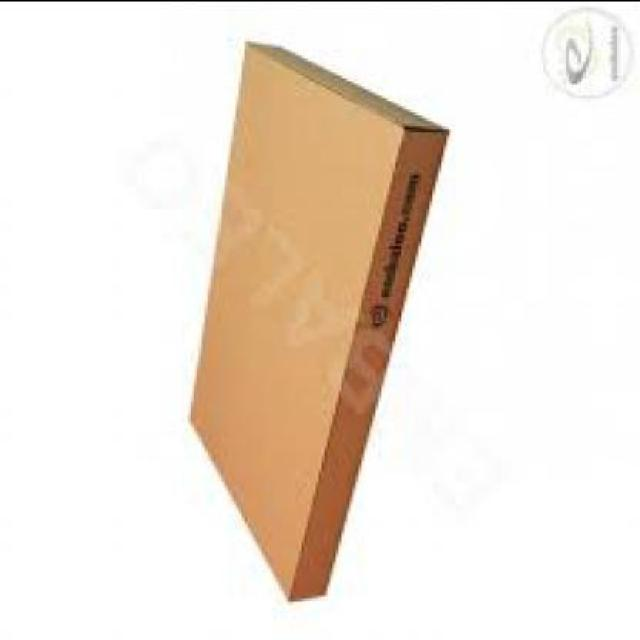CARDBOARD: (185, 46, 446, 603)
